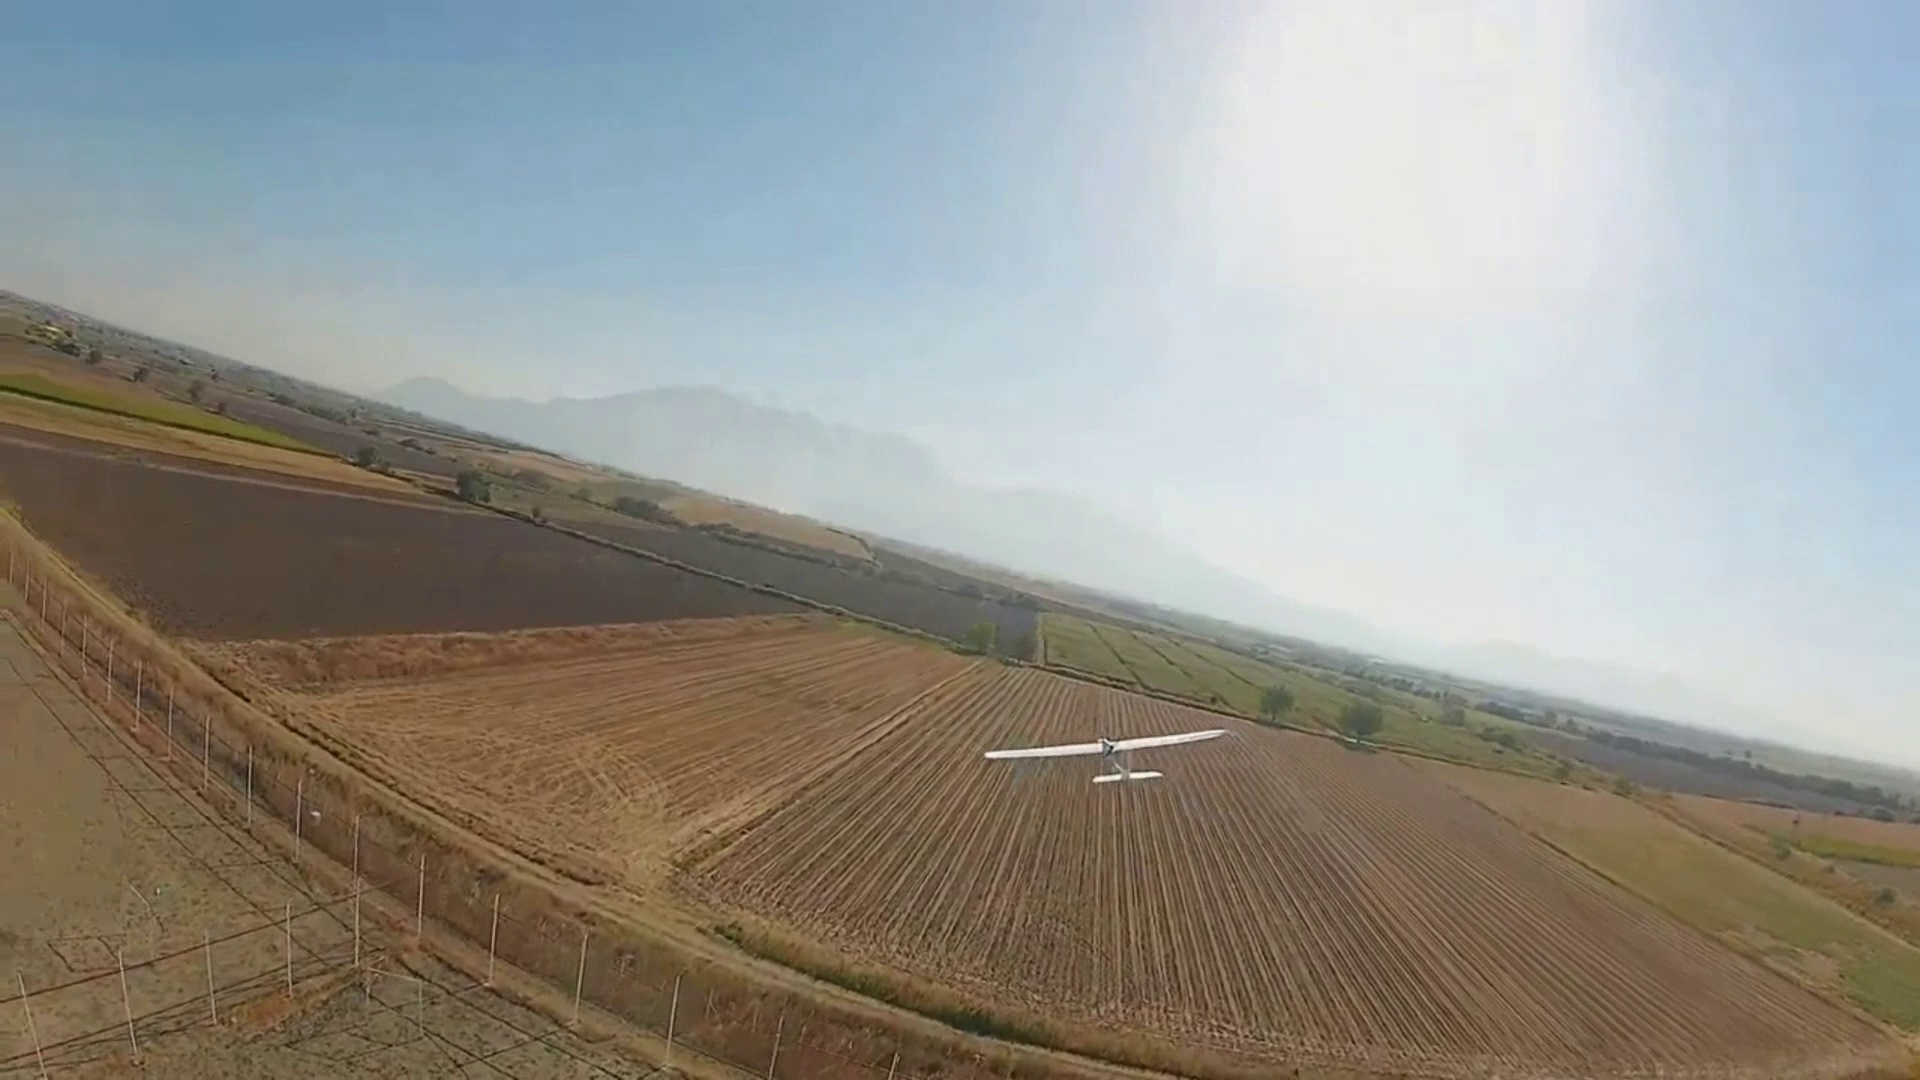airplane: (0, 279, 1910, 777)
